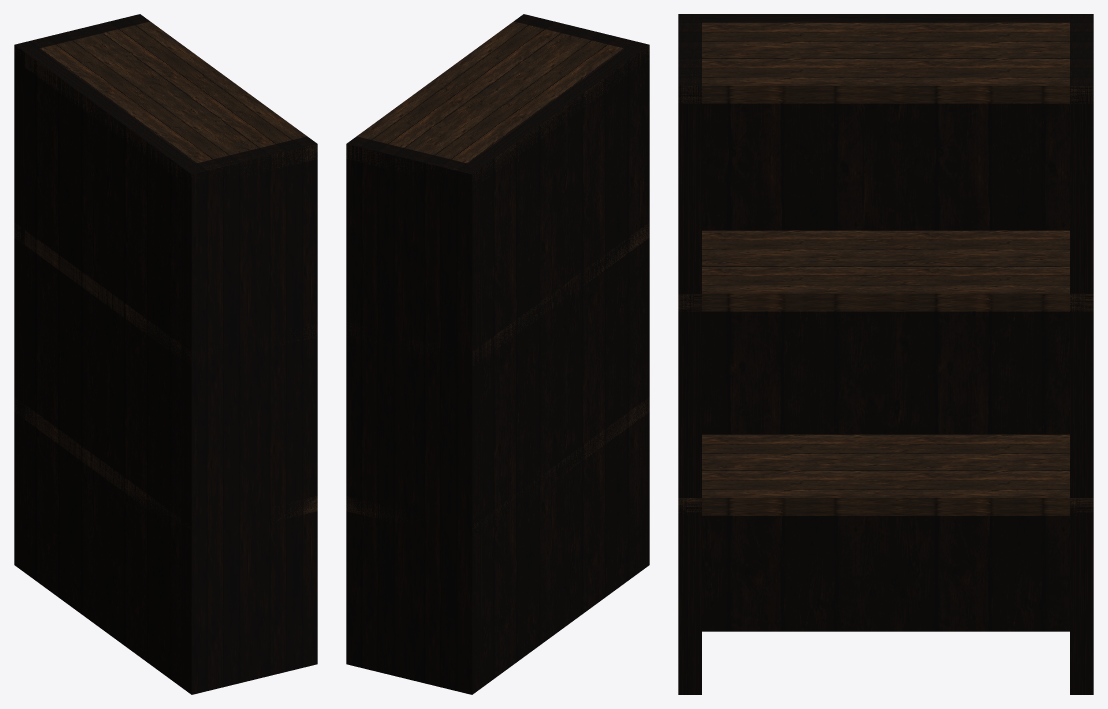
The picture shows the model from 3 angles, left to right: view 1: azimuth 30°, elevation 25°; view 2: azimuth 150°, elevation 25°; view 3: azimuth 270°, elevation 25°; orthographic projection. The views are drawn at different scales.
Parts seen in each view (by area): view 1: fixture-B-west-shelf; view 2: fixture-B-west-shelf; view 3: fixture-B-west-shelf.
Part boxes in pixels (bbox=[...]): fixture-B-west-shelf: bbox=[14, 14, 317, 694]; fixture-B-west-shelf: bbox=[346, 14, 649, 694]; fixture-B-west-shelf: bbox=[678, 14, 1093, 694].
Size of the model in its own units: 0.43 by 1.7 by 1.05.
2 materials, 2 textured.
